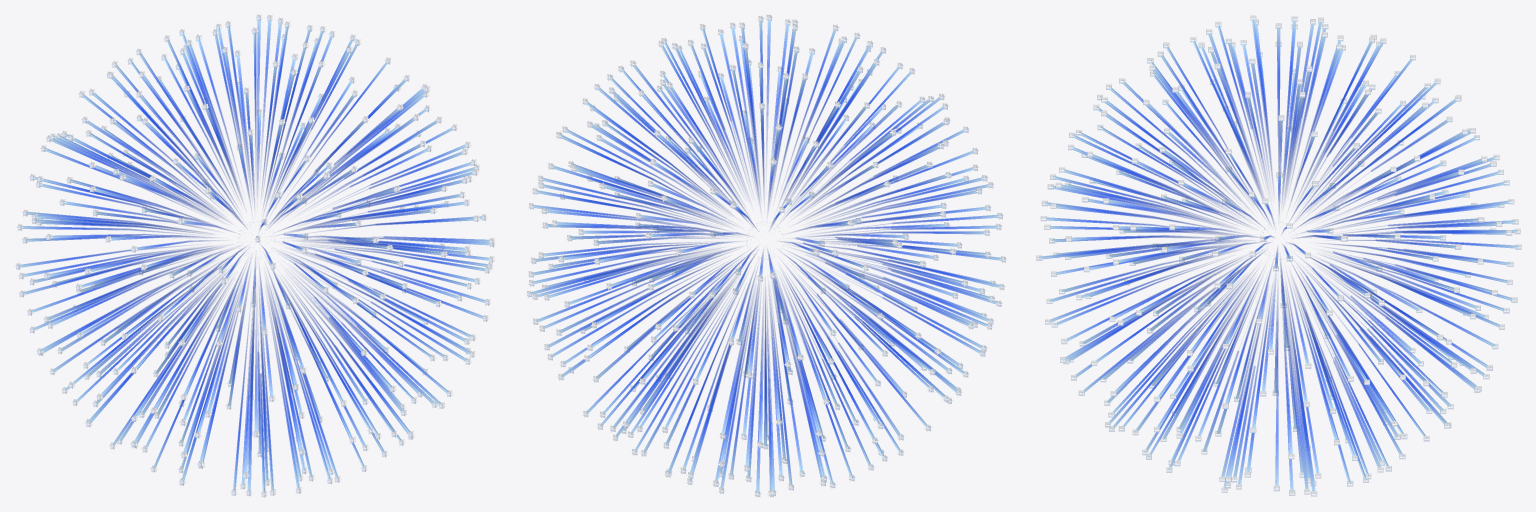
Rendered from fw_chrys_blue_teal_a.glb.
3 views of the same model, side by side, from view 1: azimuth 30°, elevation 25°; view 2: azimuth 150°, elevation 25°; view 3: azimuth 270°, elevation 25° (orthographic).
Visible parts, largest first — view 1: spire; view 2: spire; view 3: spire.
Part boxes in pixels (x1,y1,x2,y2): spire: (15, 14, 496, 497); spire: (526, 14, 1006, 497); spire: (1036, 15, 1521, 496).
Bounding box in the file's own units: 22.22 × 22.17 × 22.25.
Materials: 2 (2 with a texture image).
